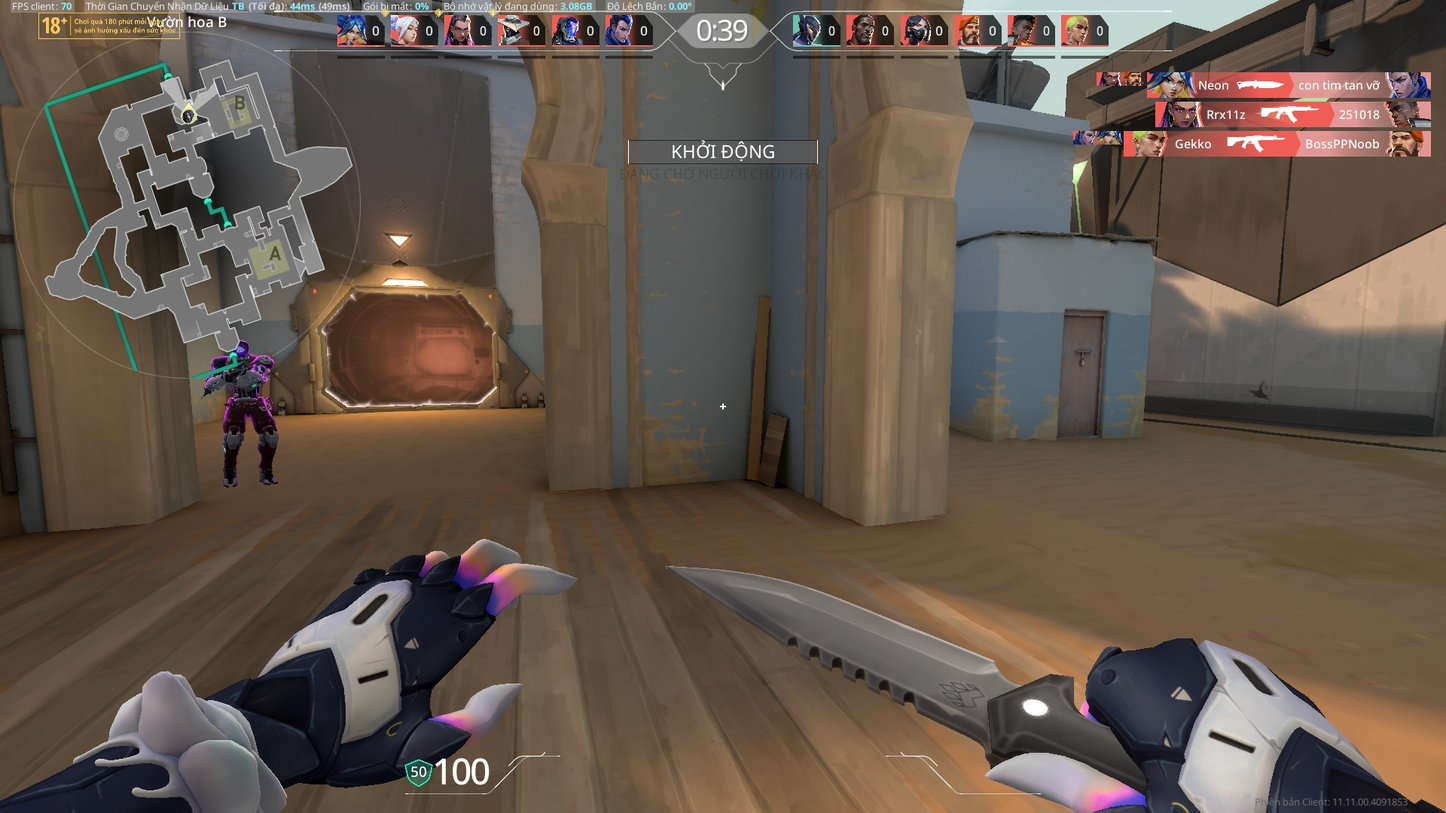body: (221, 354, 273, 401)
head: (231, 337, 250, 355)
